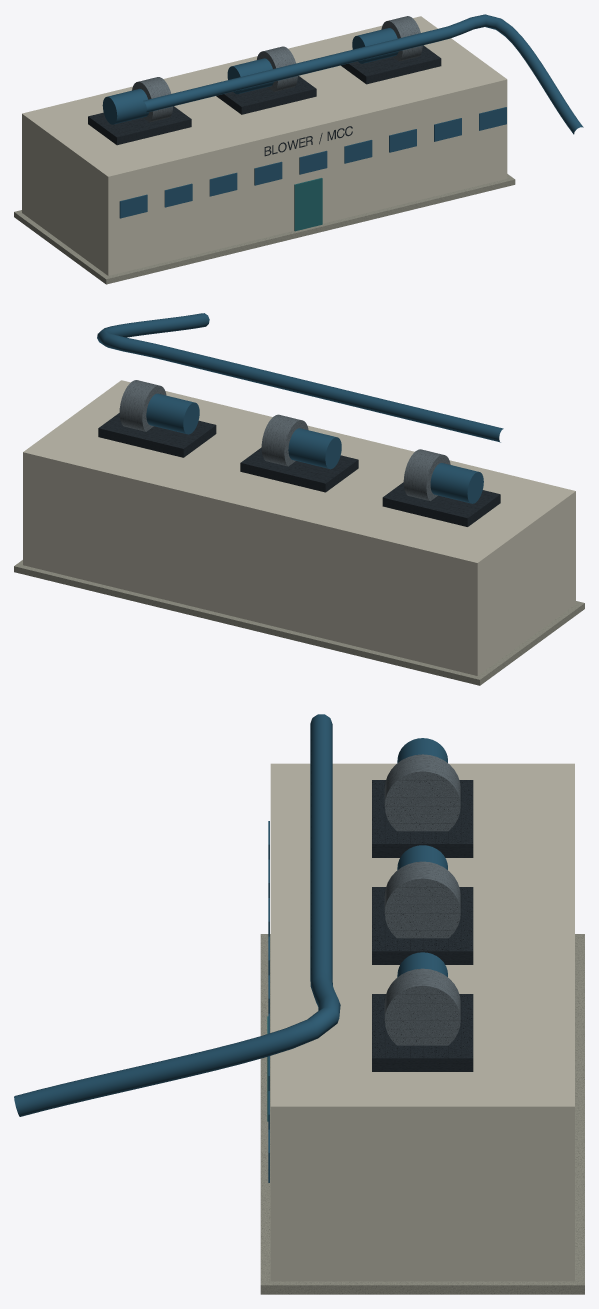
Rendered from water-blower.2db223b92ef2.glb.
3 views of the same model, one above another, from view 1: azimuth 30°, elevation 25°; view 2: azimuth 150°, elevation 25°; view 3: azimuth 270°, elevation 25° (orthographic). The views are drawn at different scales.
Visible parts, largest first — view 1: structure_cream_00025, structure_blue_00027, structure_dark_00029, structure_concrete_00026, structure_steel_00030, structure_teal_00028; view 2: structure_cream_00025, structure_blue_00027, structure_dark_00029, structure_concrete_00026, structure_steel_00030; view 3: structure_cream_00025, structure_blue_00027, structure_steel_00030, structure_dark_00029, structure_concrete_00026.
Part boxes in pixels (x1=…): structure_cream_00025: x1=22, y1=16, x2=507, y2=275; structure_blue_00027: x1=102, y1=14, x2=583, y2=218; structure_dark_00029: x1=88, y1=45, x2=441, y2=156; structure_concrete_00026: x1=14, y1=174, x2=515, y2=284; structure_steel_00030: x1=132, y1=16, x2=422, y2=122; structure_teal_00028: x1=294, y1=178, x2=322, y2=231; structure_cream_00025: x1=23, y1=380, x2=575, y2=675; structure_blue_00027: x1=97, y1=313, x2=503, y2=503; structure_dark_00029: x1=98, y1=413, x2=500, y2=526; structure_concrete_00026: x1=14, y1=560, x2=584, y2=685; structure_steel_00030: x1=119, y1=380, x2=450, y2=501; structure_cream_00025: x1=270, y1=763, x2=574, y2=1281; structure_blue_00027: x1=14, y1=714, x2=447, y2=1182; structure_steel_00030: x1=384, y1=754, x2=460, y2=1045; structure_dark_00029: x1=372, y1=780, x2=473, y2=1071; structure_concrete_00026: x1=260, y1=934, x2=584, y2=1294.
Size of the model in its own units: 16.74 by 6.06 by 11.26.
6 materials, 3 textured.
